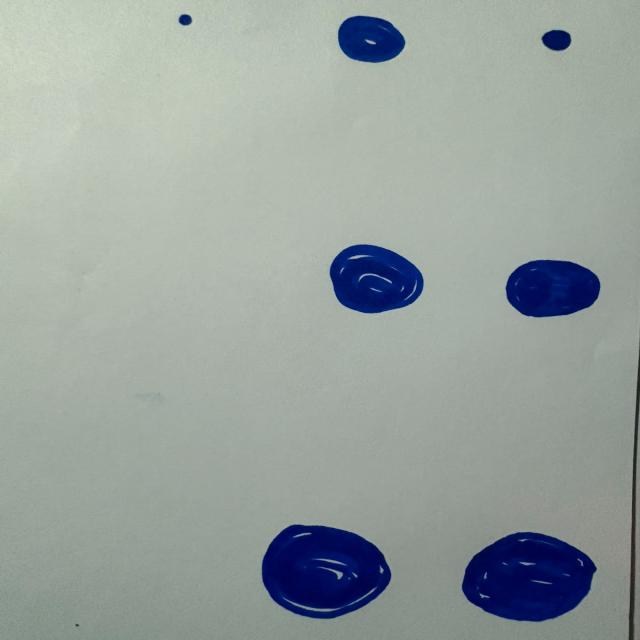Circle: (258, 522, 395, 622), (458, 530, 597, 624), (324, 241, 427, 317), (503, 258, 605, 320), (334, 12, 406, 63), (539, 28, 576, 54), (177, 13, 193, 27)
